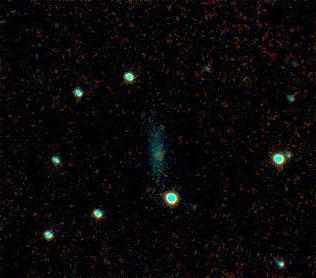star: (148, 115, 178, 145)
